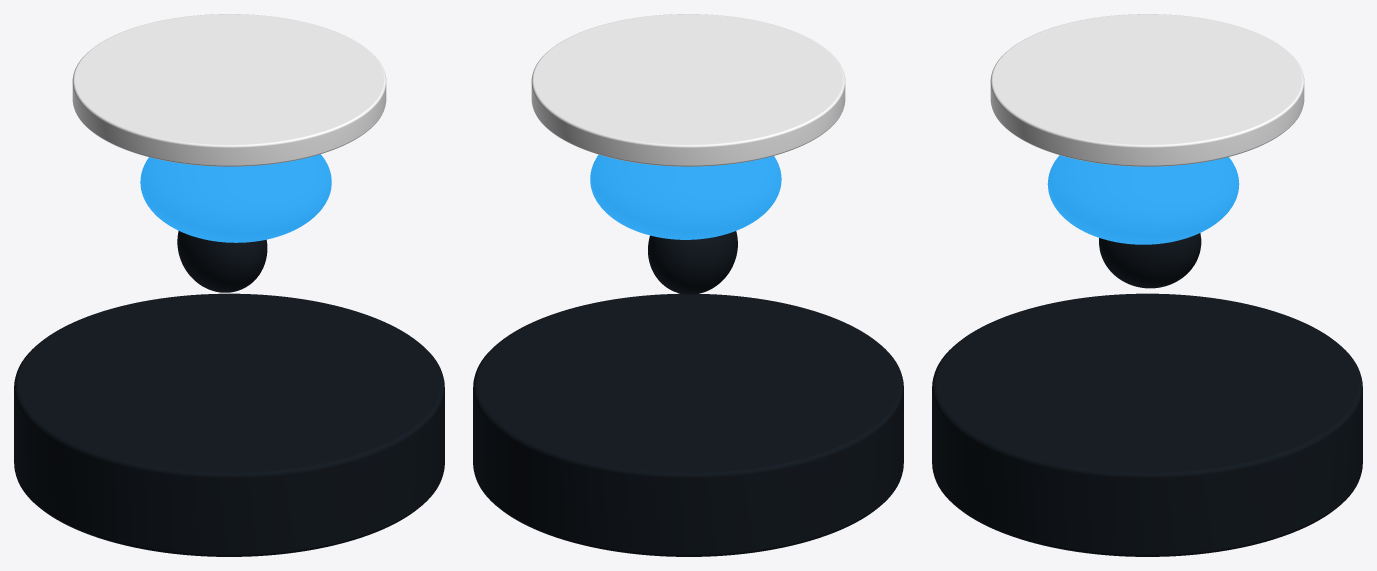
The model's file is ev_core_r11c_chamber.glb.
3 views of the same model, side by side, from view 1: azimuth 30°, elevation 25°; view 2: azimuth 150°, elevation 25°; view 3: azimuth 270°, elevation 25° (orthographic).
Parts seen in each view (by area): view 1: ChamberRearBody, SmokedLens, PlasmaVolume, CognitionNucleus; view 2: ChamberRearBody, SmokedLens, PlasmaVolume, CognitionNucleus; view 3: ChamberRearBody, SmokedLens, PlasmaVolume, CognitionNucleus.
Boxes of the visible parts, x1=… form: ChamberRearBody: x1=14, y1=293, x2=444, y2=556; SmokedLens: x1=72, y1=14, x2=386, y2=166; PlasmaVolume: x1=140, y1=154, x2=331, y2=242; CognitionNucleus: x1=177, y1=231, x2=267, y2=292; ChamberRearBody: x1=473, y1=293, x2=903, y2=556; SmokedLens: x1=531, y1=14, x2=845, y2=166; PlasmaVolume: x1=590, y1=154, x2=781, y2=239; CognitionNucleus: x1=648, y1=231, x2=737, y2=294; ChamberRearBody: x1=932, y1=293, x2=1362, y2=556; SmokedLens: x1=990, y1=14, x2=1304, y2=166; PlasmaVolume: x1=1047, y1=155, x2=1239, y2=244; CognitionNucleus: x1=1099, y1=233, x2=1201, y2=288.
Bounding box in the file's own units: 3.24 × 3.22 × 3.24.
